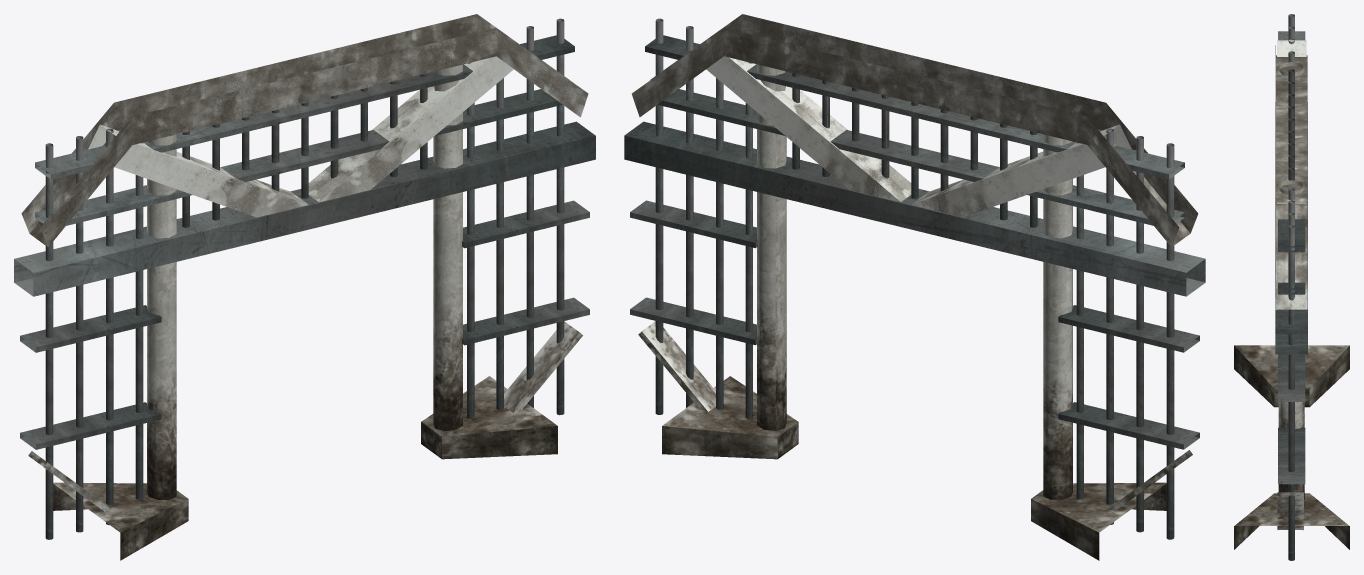
The model's file is Strct_Lvl1_ZoneA_Gate_Open 1.fbx.
The picture shows the model from 3 angles, left to right: view 1: azimuth 30°, elevation 25°; view 2: azimuth 150°, elevation 25°; view 3: azimuth 270°, elevation 25°; orthographic projection. The views are drawn at different scales.
Parts seen in each view (by area): view 1: polySurface32; view 2: polySurface32; view 3: polySurface32.
Part boxes in pixels (bbox=[...]): polySurface32: bbox=[14, 14, 595, 560]; polySurface32: bbox=[624, 14, 1205, 560]; polySurface32: bbox=[1234, 14, 1349, 560].
Size of the model in its own units: 612 by 436 by 129.
